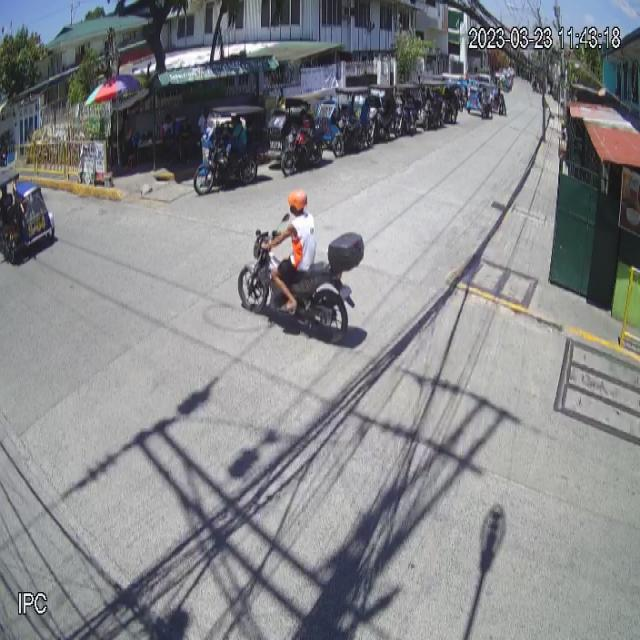Motorcycle: (238, 214, 366, 346)
Tricycle: (0, 167, 55, 264)
